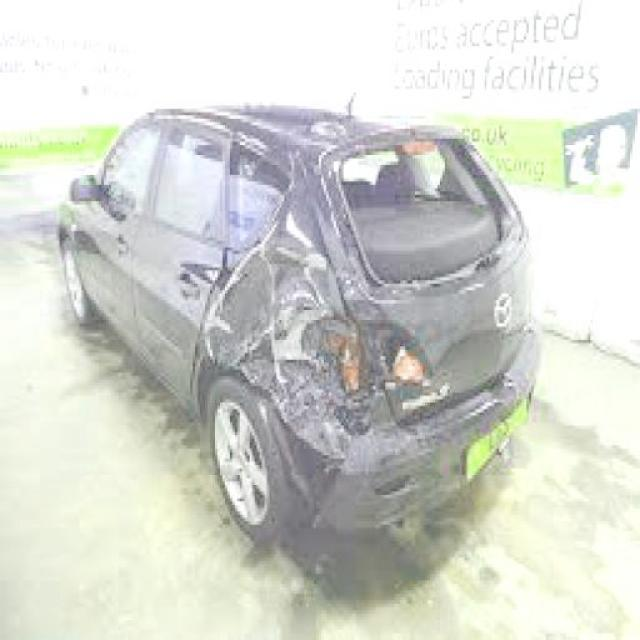car damage: (196, 137, 520, 475)
